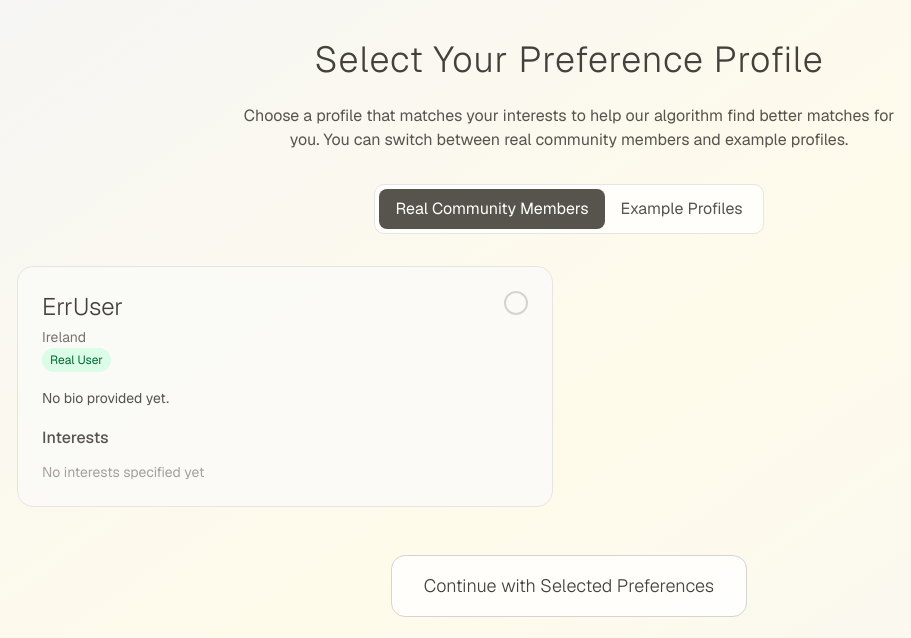
Test case: PreferenceProfileSelector (integration) › save failure → shows error toast and stays on page
What coordinates should you click on to do the following:
click the heading "ErrUser"
I would click on:
 (83, 307)
Its box is [42,291,123,323].
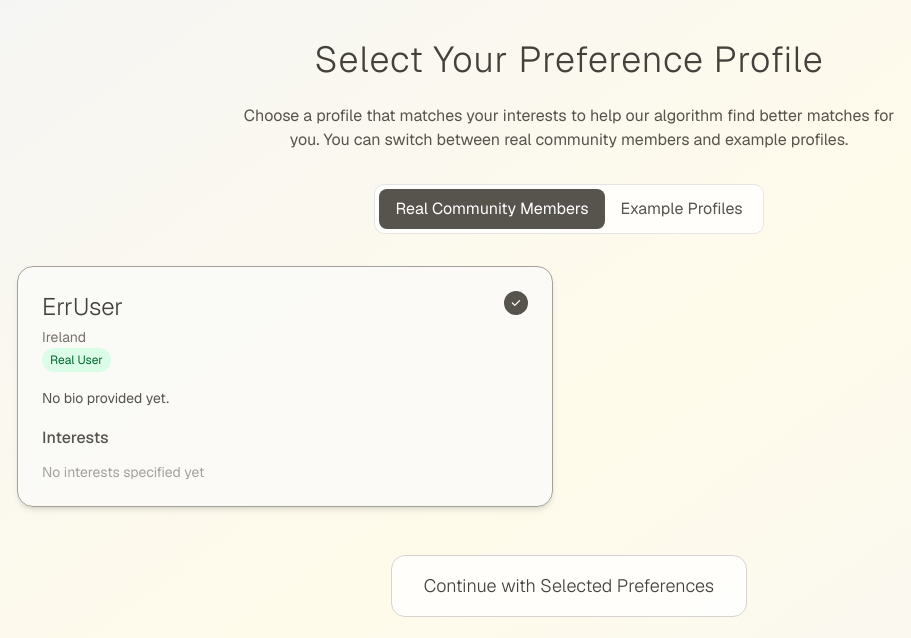
What coordinates should you click on to do the following:
click the button "Continue with Selected Preferences"
I would click on:
 (569, 586)
Its box is [391,555,747,617].
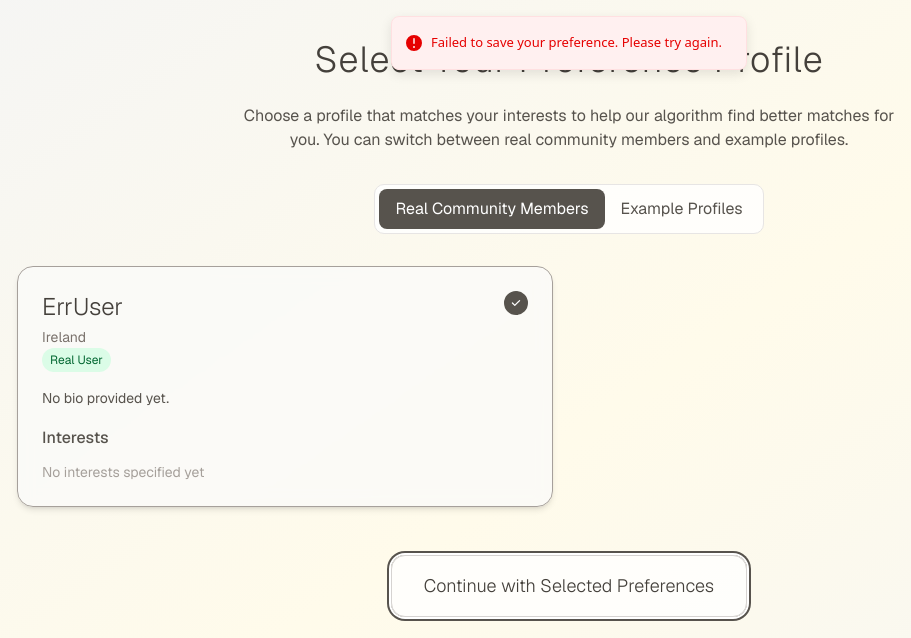
Expected: the text "Failed to save your preference. Please try again." is shown, [431,33,722,52]
